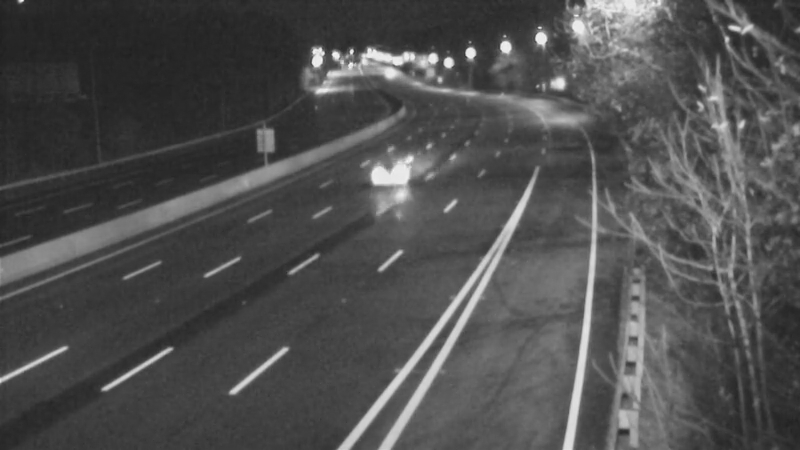vehicle: (352, 133, 432, 213), (363, 46, 413, 96)
